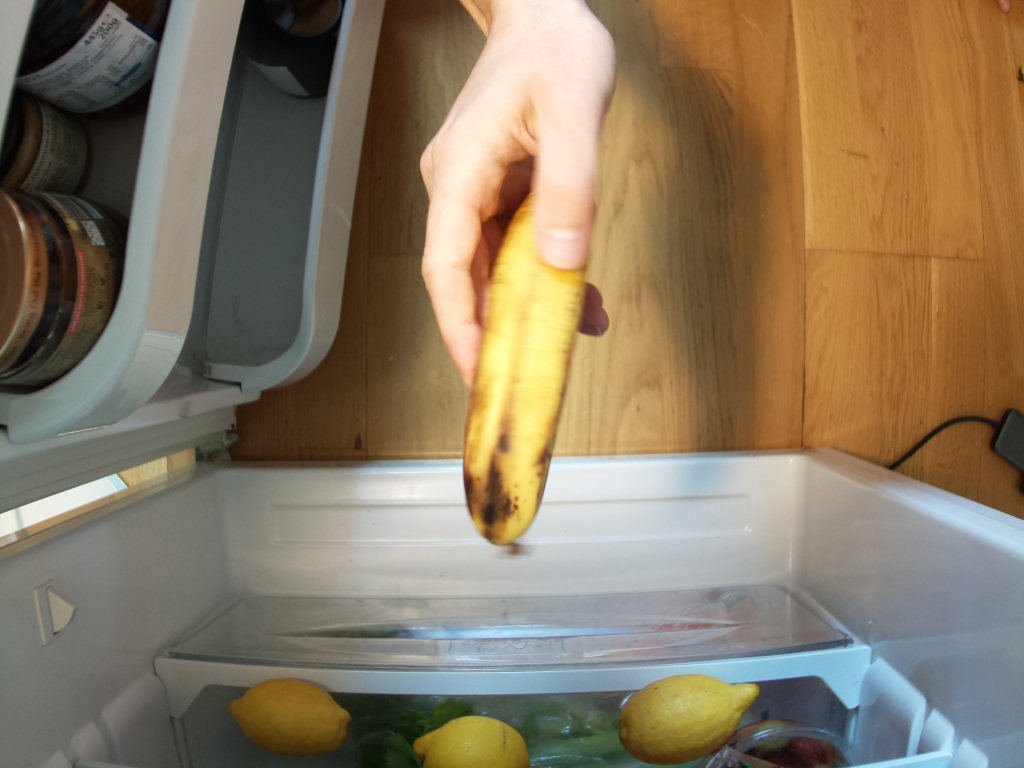banana-overripe: (466, 187, 601, 559)
